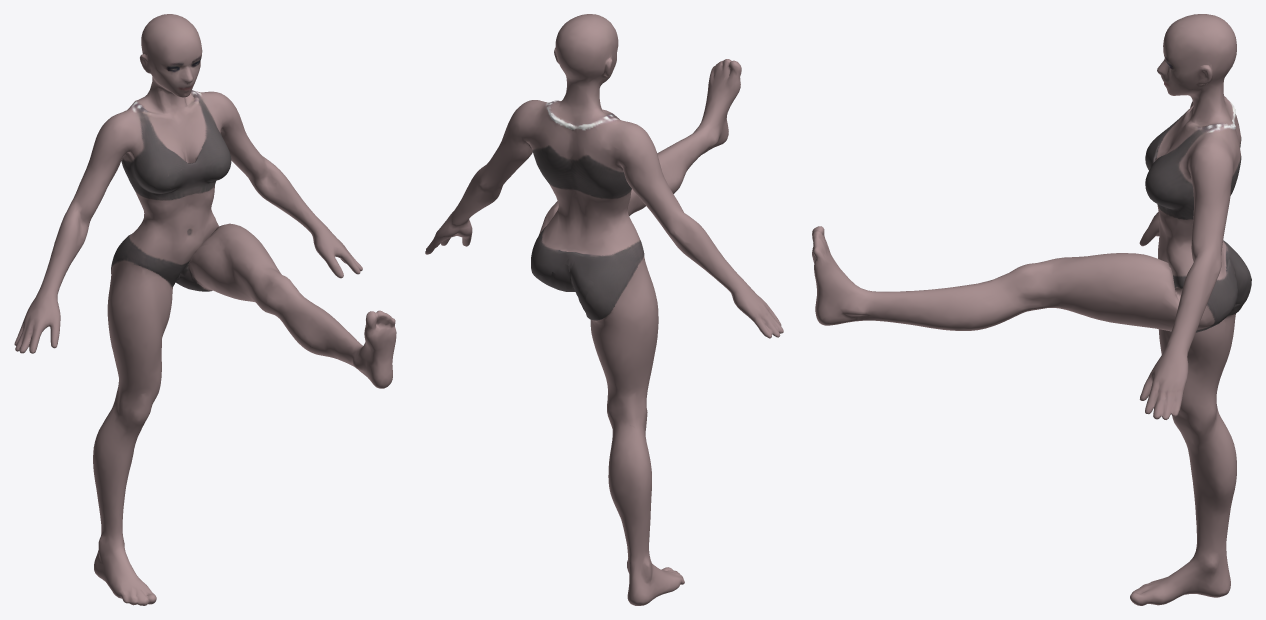
Rendered from regional-ThighR-90.glb.
3 views of the same model, side by side, from view 1: azimuth 30°, elevation 25°; view 2: azimuth 150°, elevation 25°; view 3: azimuth 270°, elevation 25° (orthographic). The views are drawn at different scales.
Parts seen in each view (by area): view 1: regional-ThighR-90; view 2: regional-ThighR-90; view 3: regional-ThighR-90.
Part boxes in pixels (x1=…): regional-ThighR-90: x1=14, y1=14, x2=396, y2=605; regional-ThighR-90: x1=425, y1=14, x2=783, y2=605; regional-ThighR-90: x1=812, y1=14, x2=1251, y2=605.
Bounding box in the file's own units: 0.6509 × 1 × 0.6506.
1 material, 1 textured.
